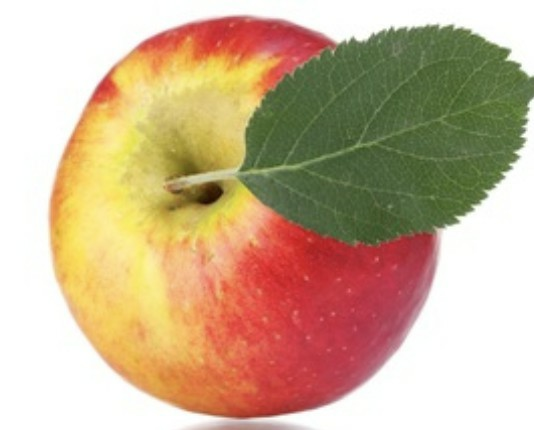normal_apple: (55, 23, 440, 412)
